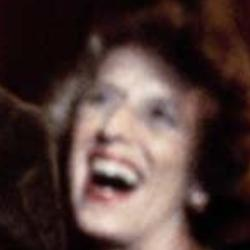face: (44, 17, 230, 244)
